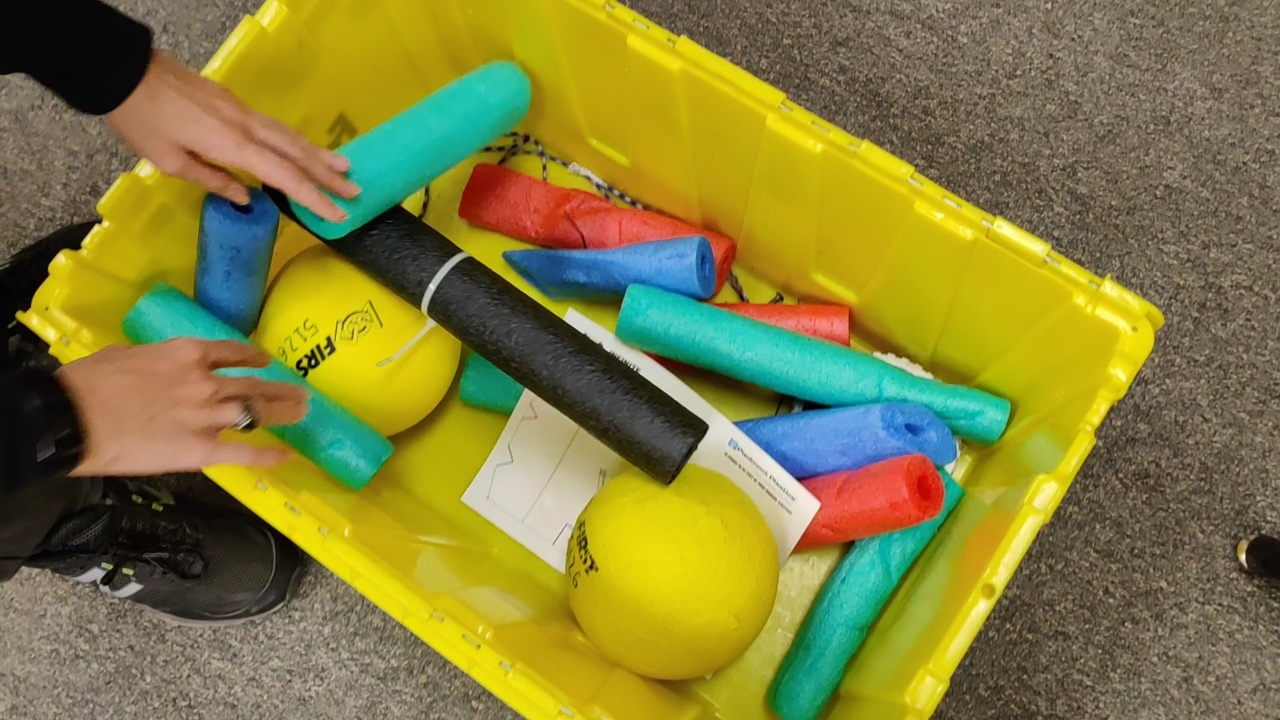Ball: (561, 464, 781, 678), (254, 247, 466, 438)
